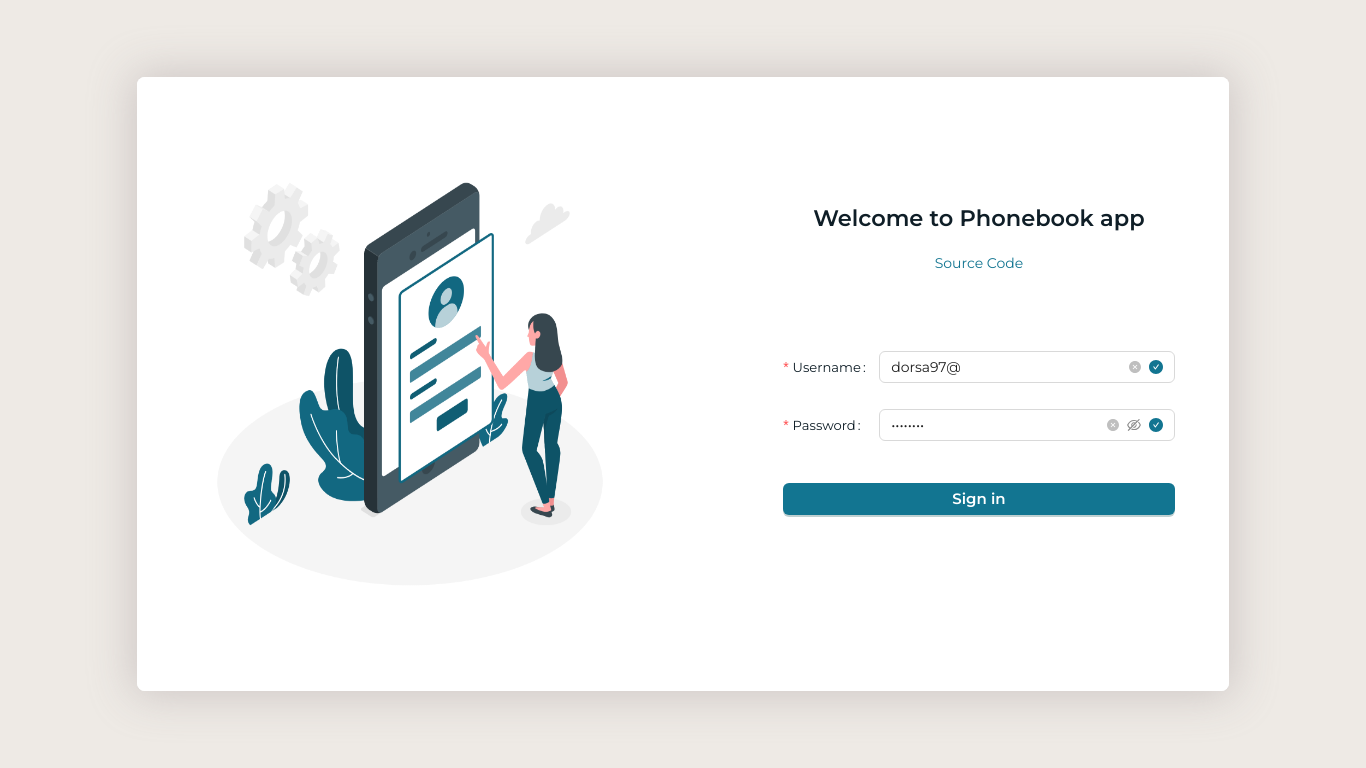
Test: username input validation › input validation on clearing the input
This screenshot has width=1366, height=768.
Clear the field labelled "Username" at (1006, 367), box [891,356,1121,378]
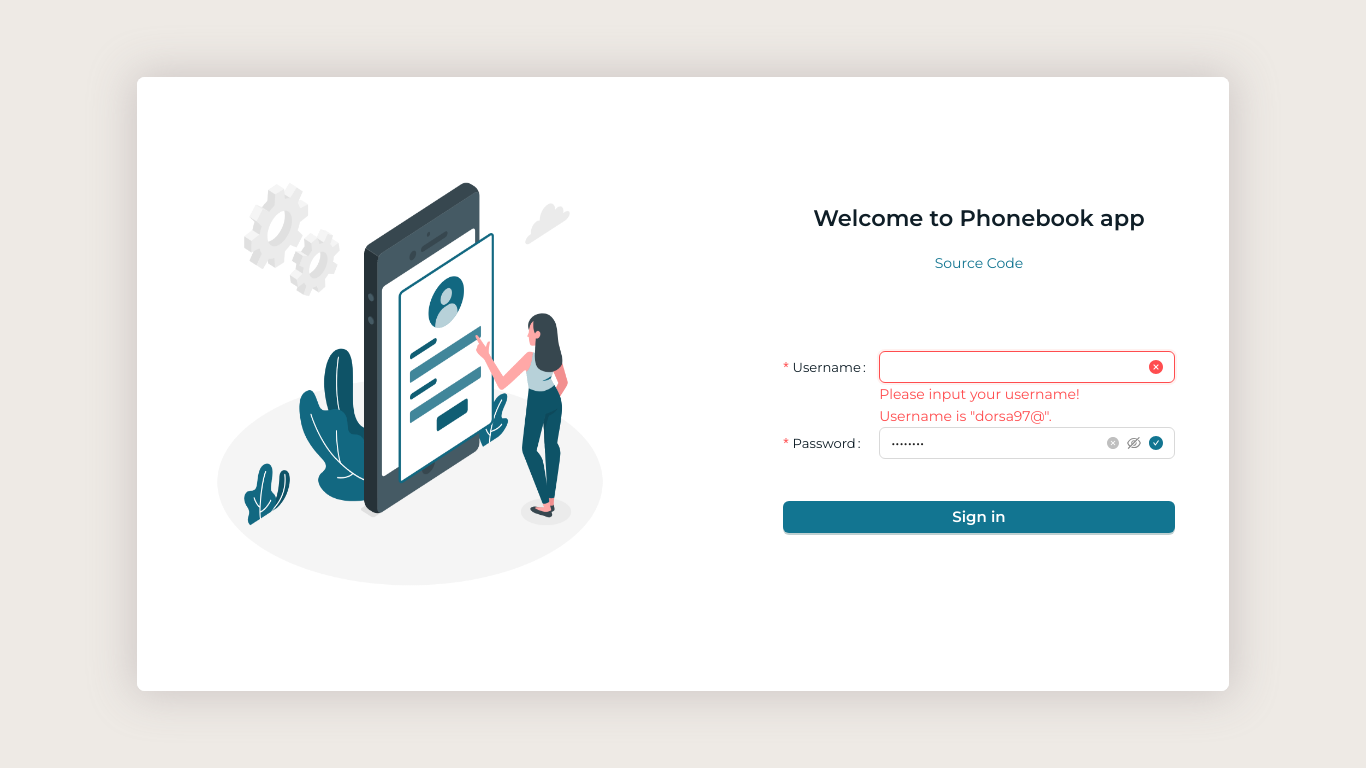
Now the text "Please input your username!" is shown, box [879,385,1080,403]
